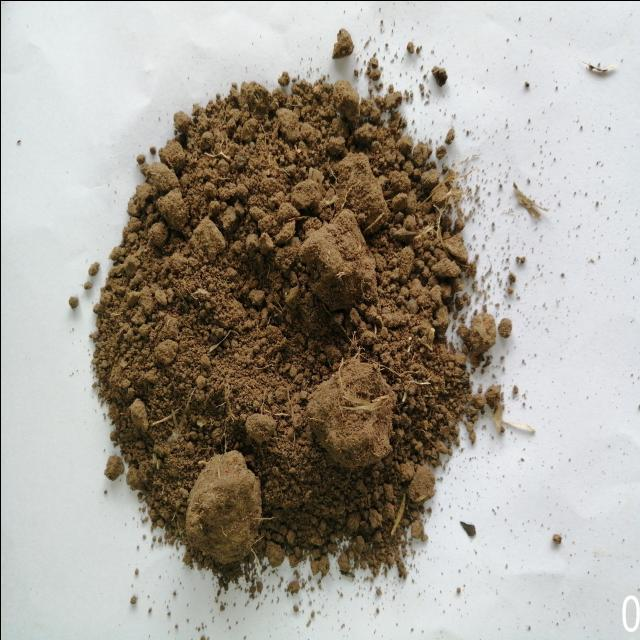soil: (189, 121, 386, 523)
